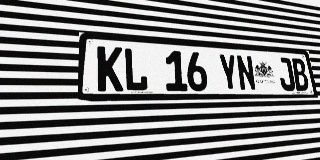1: (164, 50, 188, 91)
6: (185, 51, 208, 91)
B: (291, 58, 310, 91)
J: (276, 57, 296, 91)
K: (97, 46, 123, 91)
L: (123, 47, 148, 91)
N: (235, 55, 257, 91)
Y: (218, 53, 240, 91)
